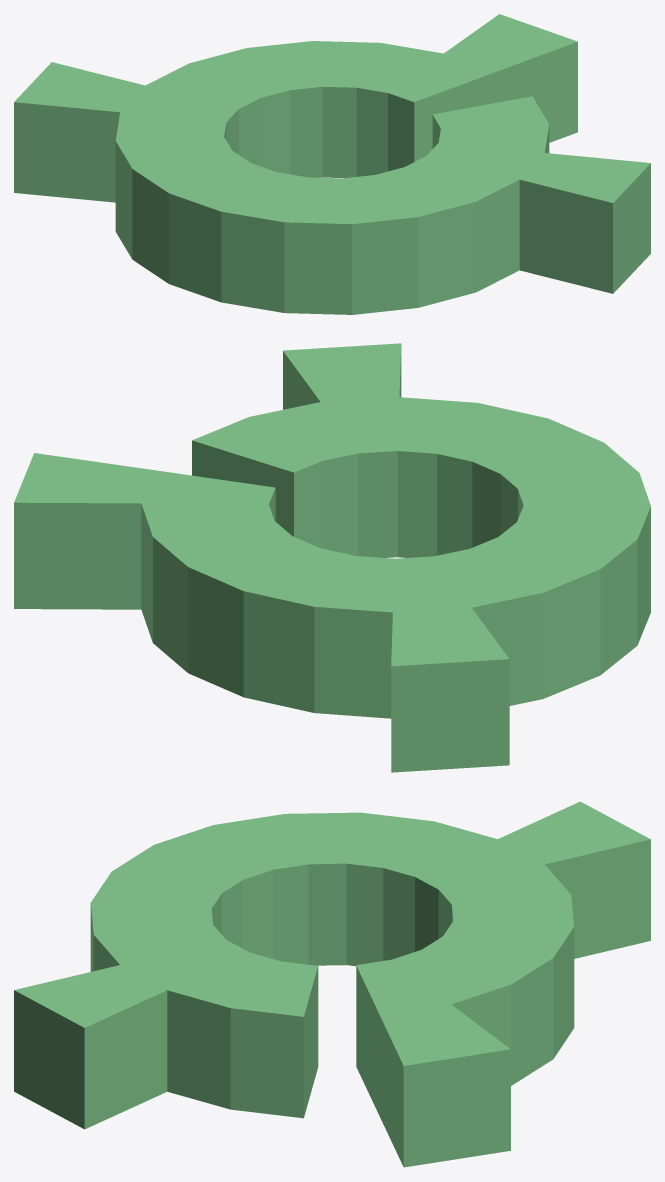
The model's file is mesh_mazewalls01.gltf.
3 renders of one model, top to bottom at view 1: azimuth 30°, elevation 25°; view 2: azimuth 150°, elevation 25°; view 3: azimuth 270°, elevation 25°, orthographic. The views are drawn at different scales.
Parts seen in each view (by area): view 1: mesh_mazewalls01; view 2: mesh_mazewalls01; view 3: mesh_mazewalls01.
Boxes of the visible parts, <box> form: mesh_mazewalls01: <box>14,14,650,314</box>; mesh_mazewalls01: <box>14,343,650,772</box>; mesh_mazewalls01: <box>14,801,650,1167</box>.
Bounding box in the file's own units: 53.99 × 9.65 × 54.93.
